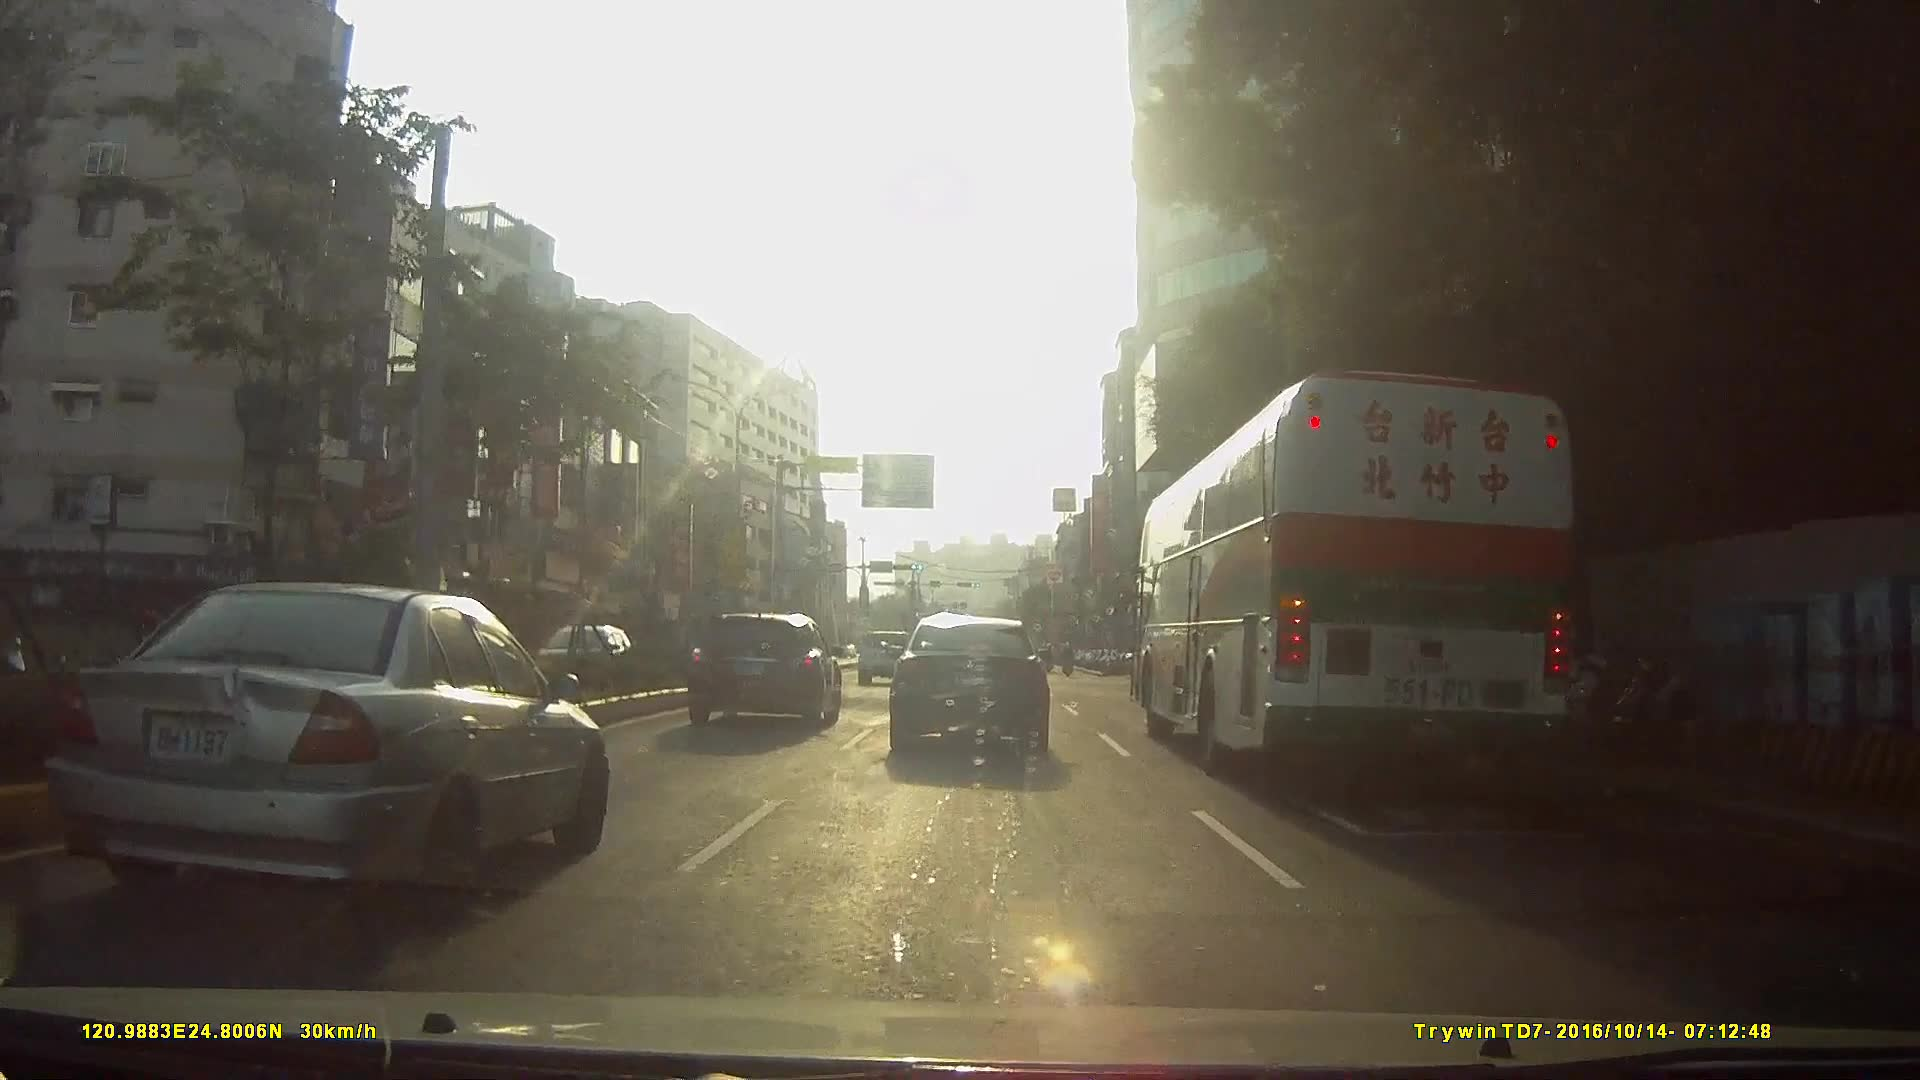vehicle: (1124, 324, 1647, 791), (40, 574, 611, 926), (886, 607, 1052, 754), (684, 609, 841, 727), (856, 625, 914, 683)
